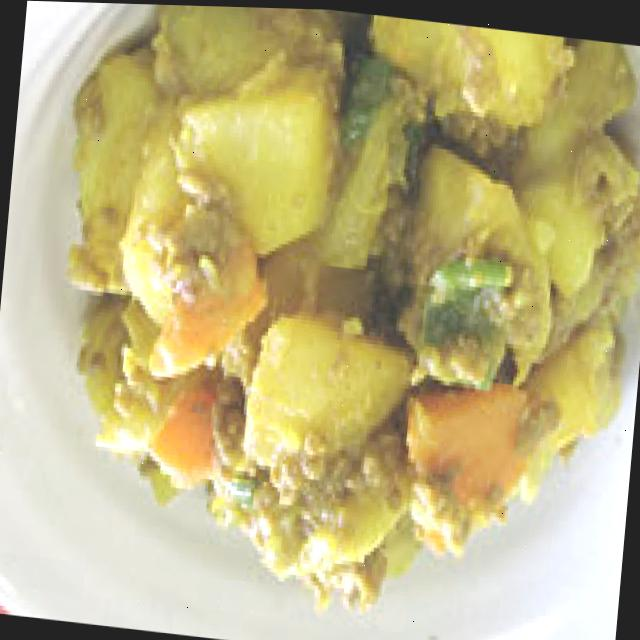牛肉菜式: (28, 1, 640, 640)
